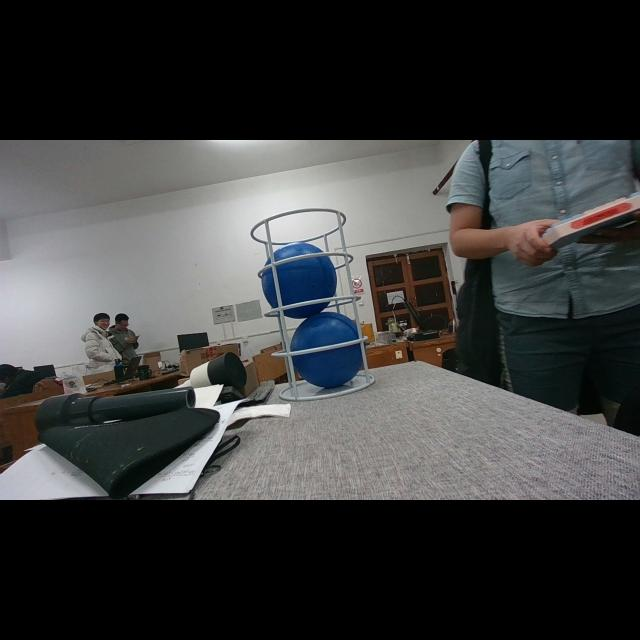B: (261, 242, 337, 318), (290, 312, 366, 388)
S: (250, 208, 384, 404)
